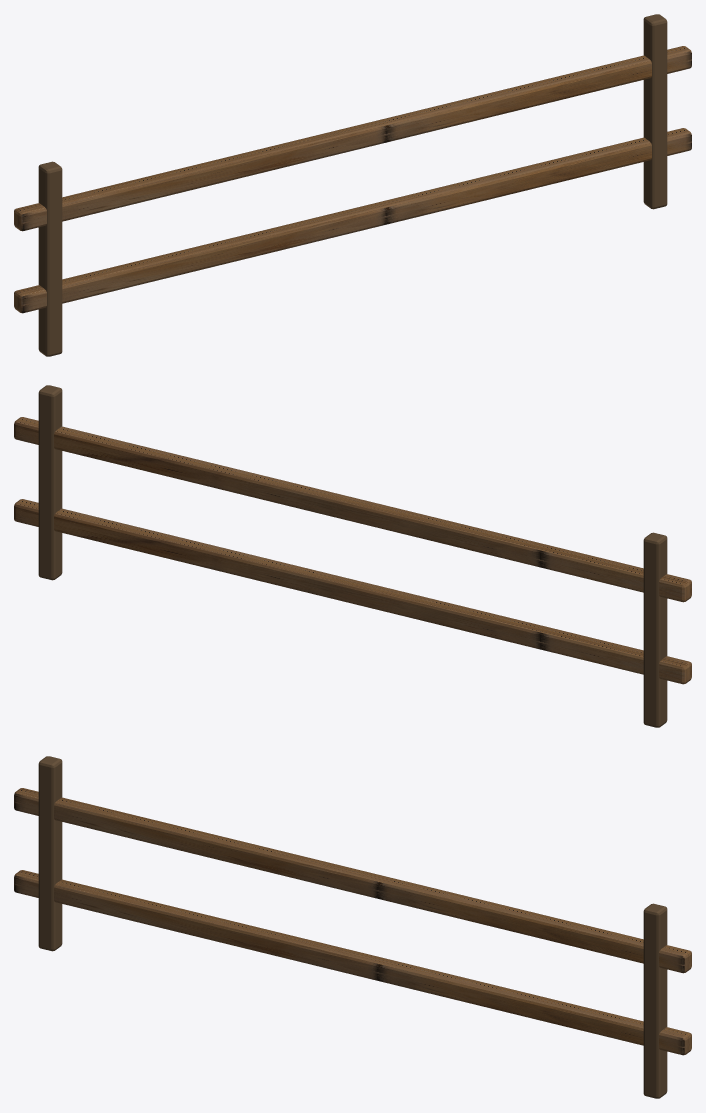
Rendered from fence.glb.
The picture shows the model from 3 angles, top to bottom: view 1: azimuth 30°, elevation 25°; view 2: azimuth 150°, elevation 25°; view 3: azimuth 330°, elevation 25°; orthographic projection.
Visible parts, largest first — view 1: fence rail, fence post; view 2: fence rail, fence post; view 3: fence rail, fence post.
Boxes of the visible parts, box(x1,y1,x2,y2) form: fence rail: box(14, 46, 691, 313); fence post: box(38, 14, 667, 356); fence rail: box(14, 417, 691, 684); fence post: box(38, 385, 667, 727); fence rail: box(14, 788, 691, 1055); fence post: box(38, 756, 667, 1098).
Bounding box in the file's own units: 6 × 1.6 × 0.15.
Materials: 2 (1 with a texture image).
